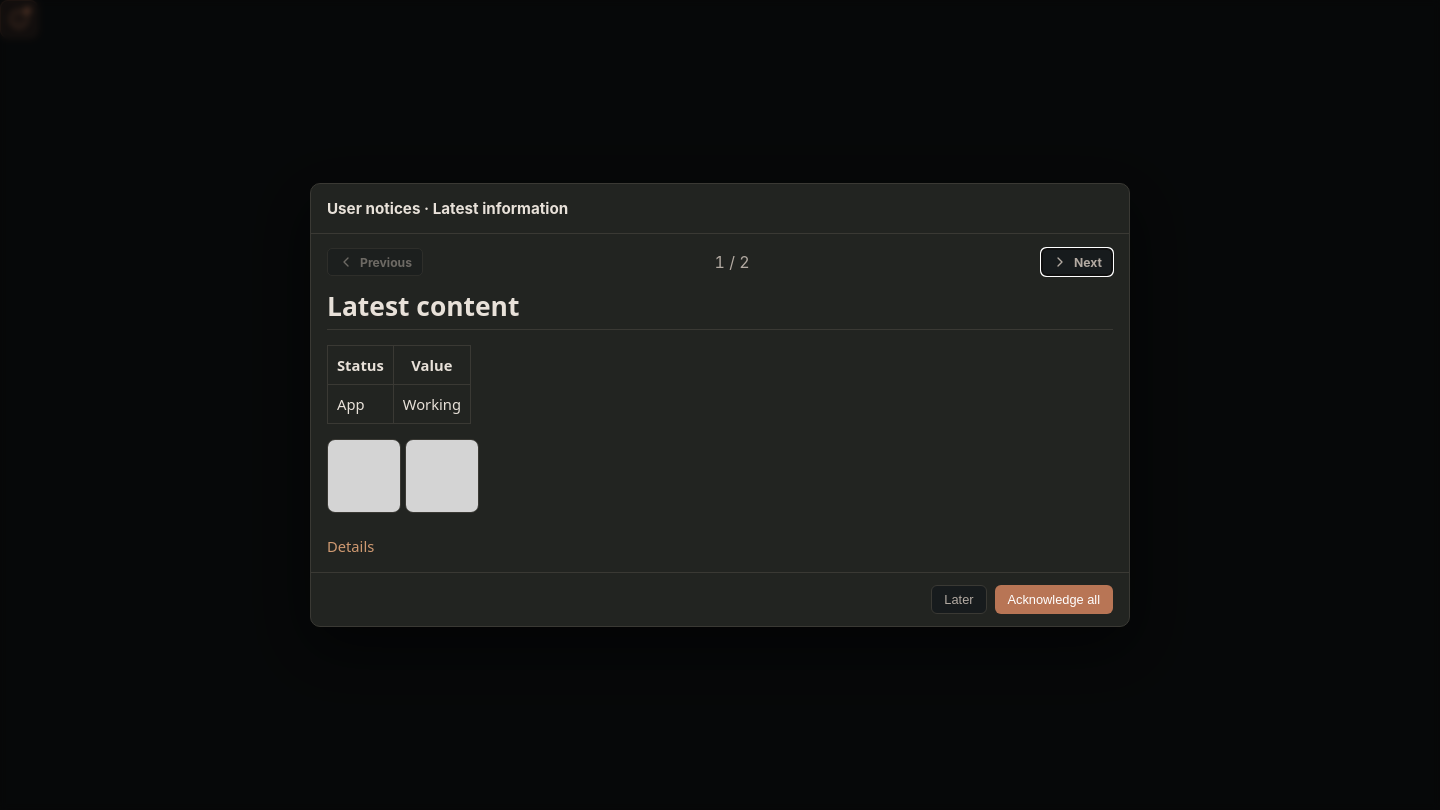
Test: user notice presentation › keeps the popup available when acknowledgement cannot be saved
Click the button "Acknowledge all": x=1054, y=600 [994,585,1113,614]
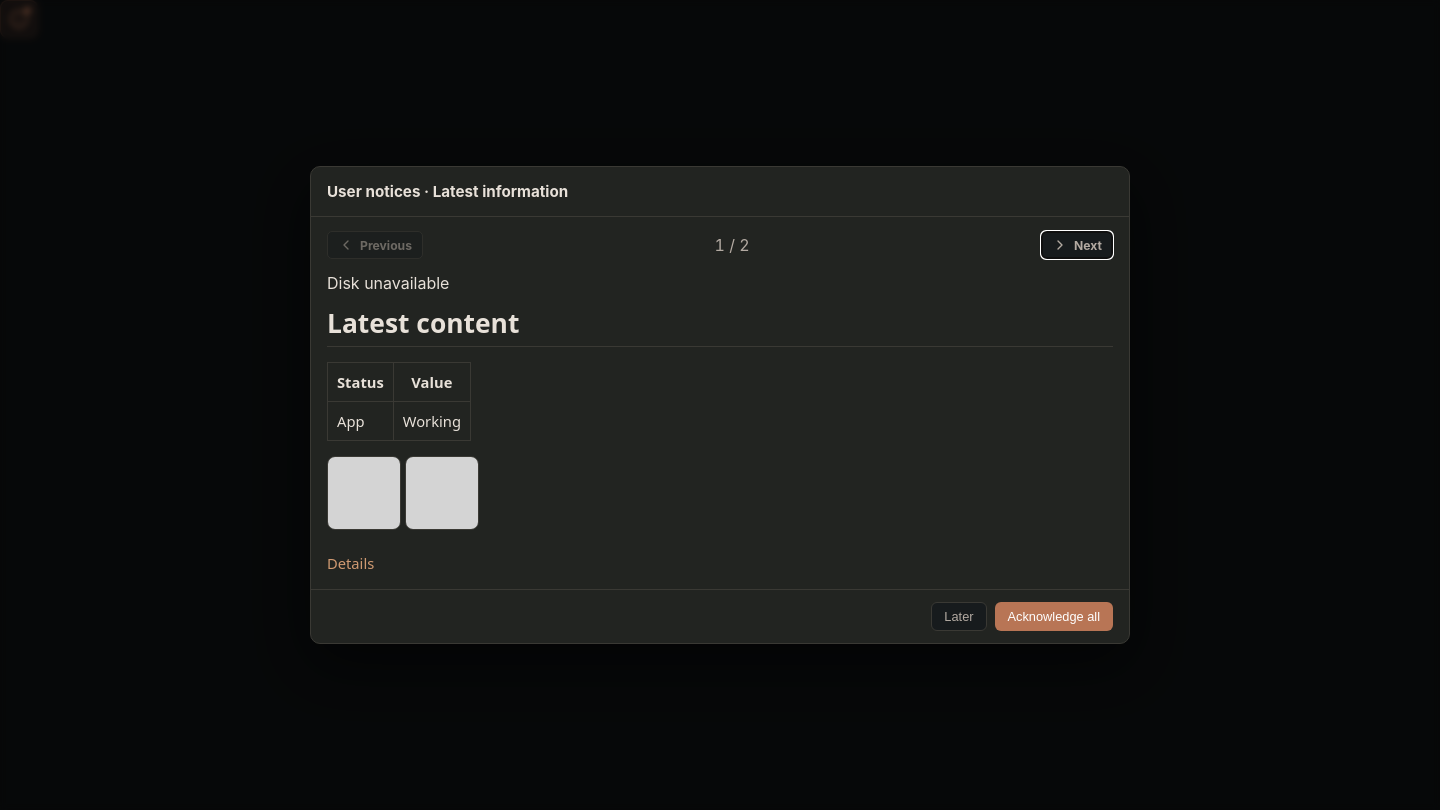
Expected: the button "Acknowledge all" is enabled, [994,602,1113,631]
Now the message "Disk unavailable" is shown, box [327,273,450,293]
